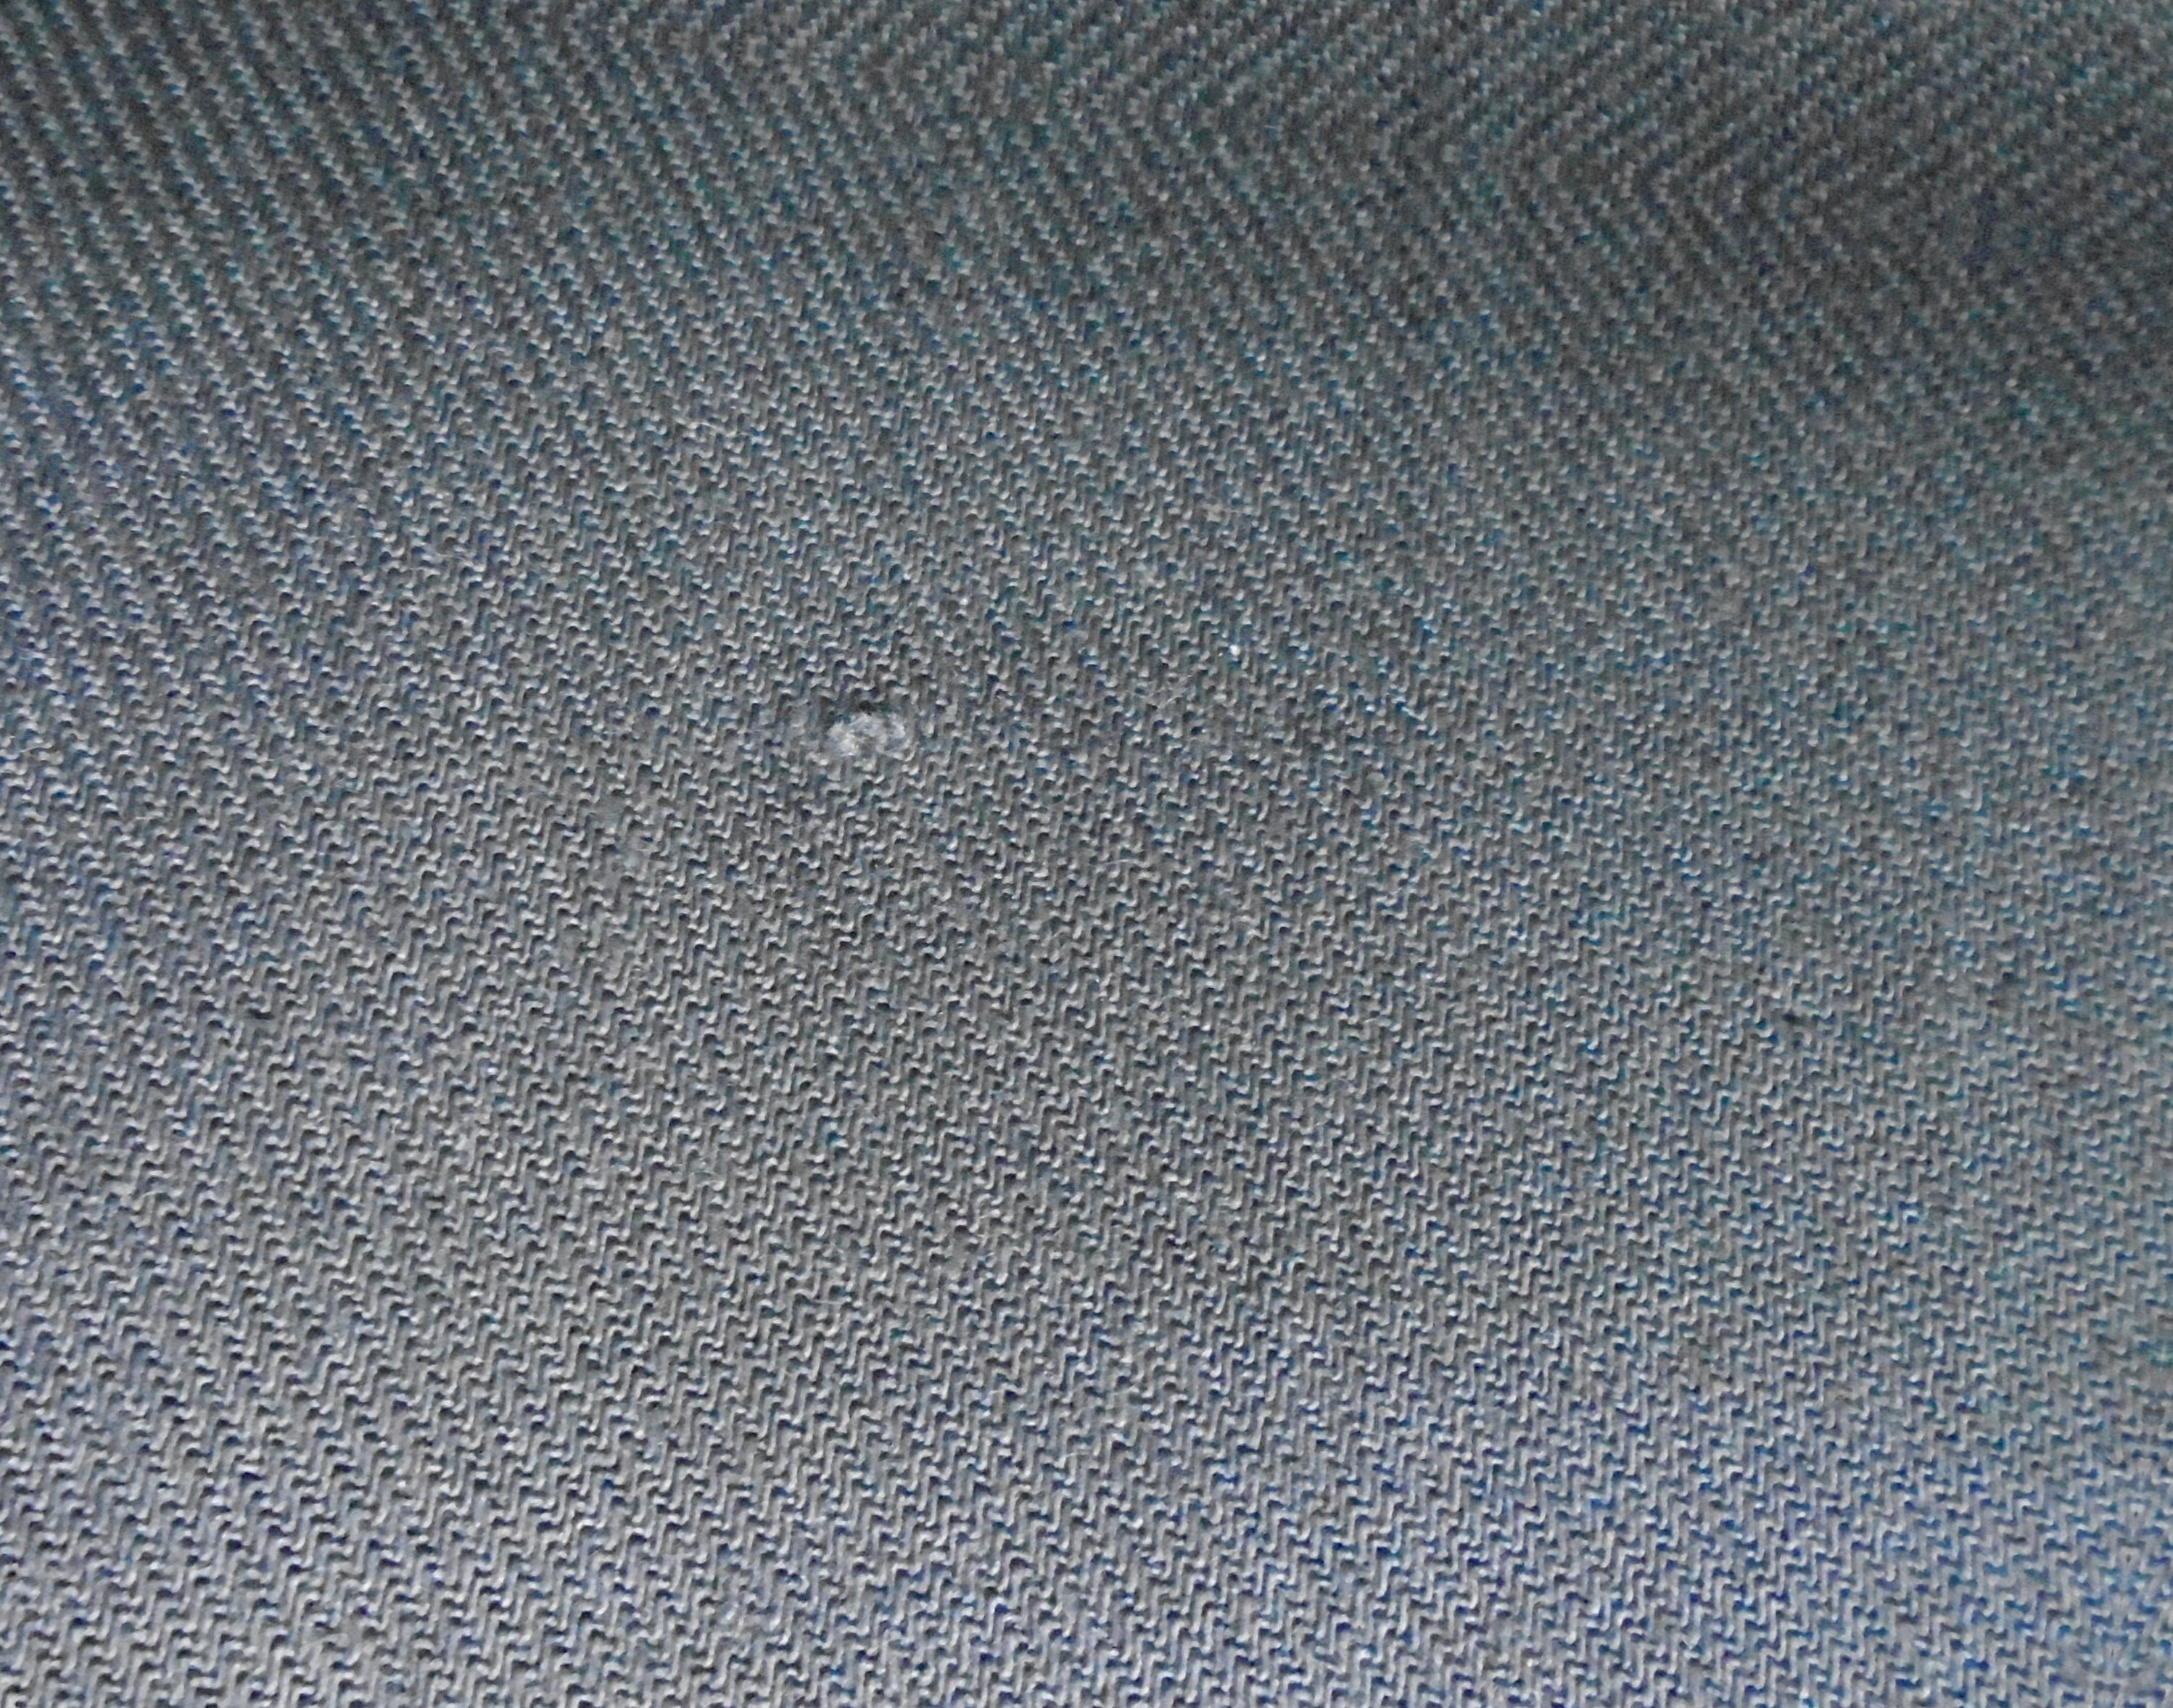knot: (776, 665, 935, 782)
